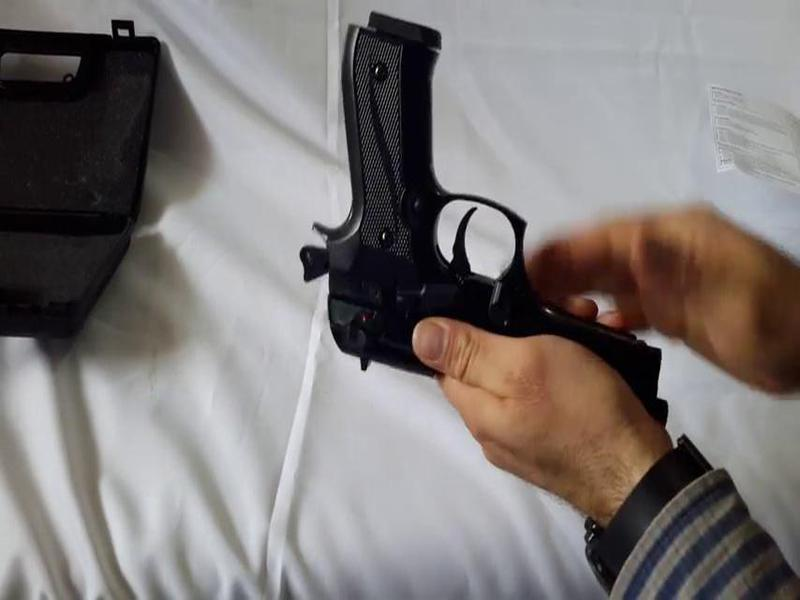Pistola: (272, 1, 684, 453)
